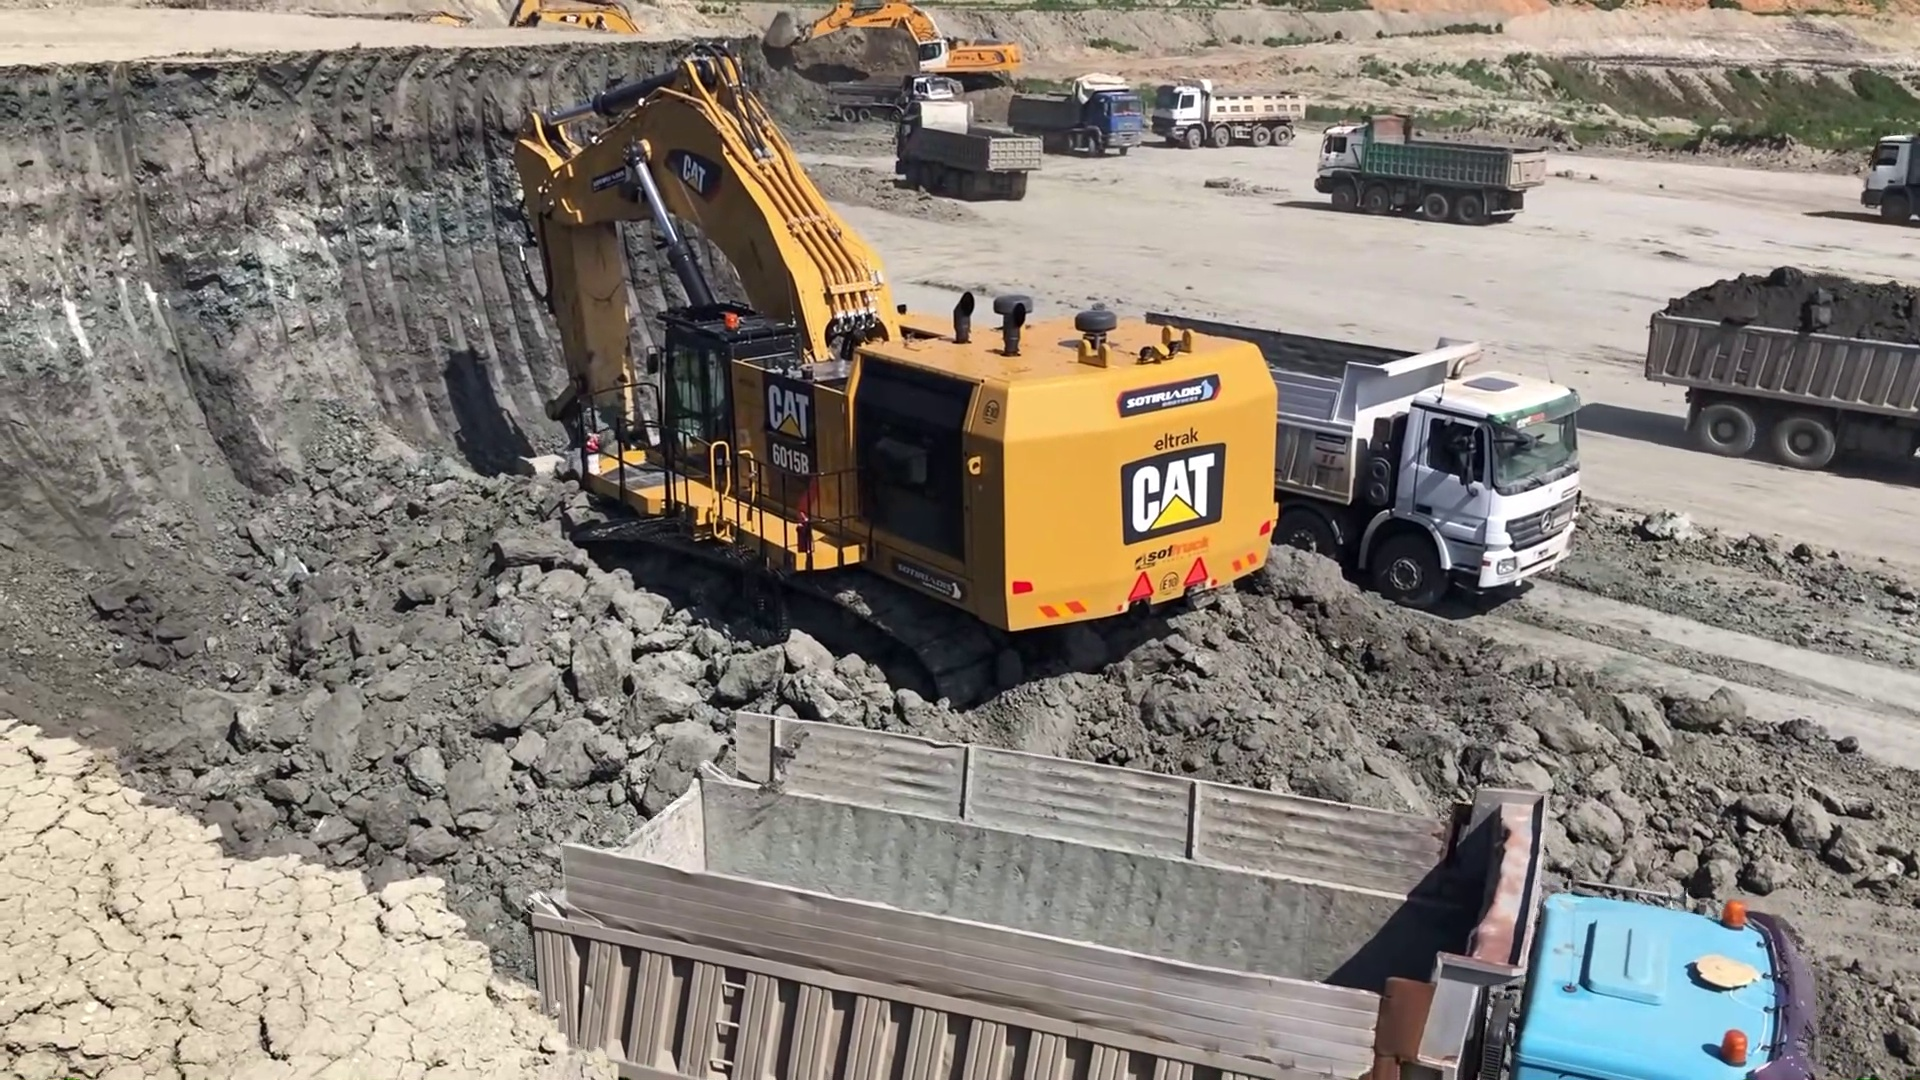excavator: (502, 45, 1288, 711), (762, 5, 1029, 95), (505, 1, 680, 102)
truck: (520, 746, 1836, 1080), (1106, 305, 1571, 603), (1644, 272, 1920, 491), (1316, 112, 1543, 227), (907, 95, 1038, 202), (1156, 76, 1305, 146), (1018, 73, 1134, 162), (833, 70, 945, 119), (1873, 142, 1920, 222)
